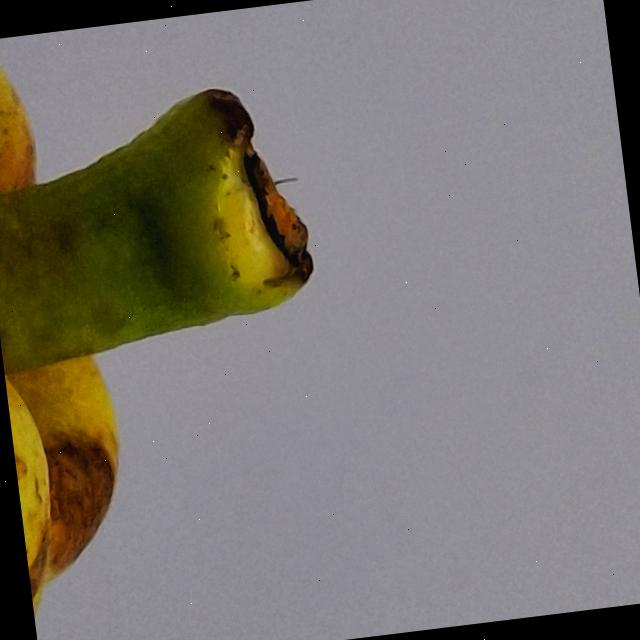mangosteen: (0, 0, 413, 640)
